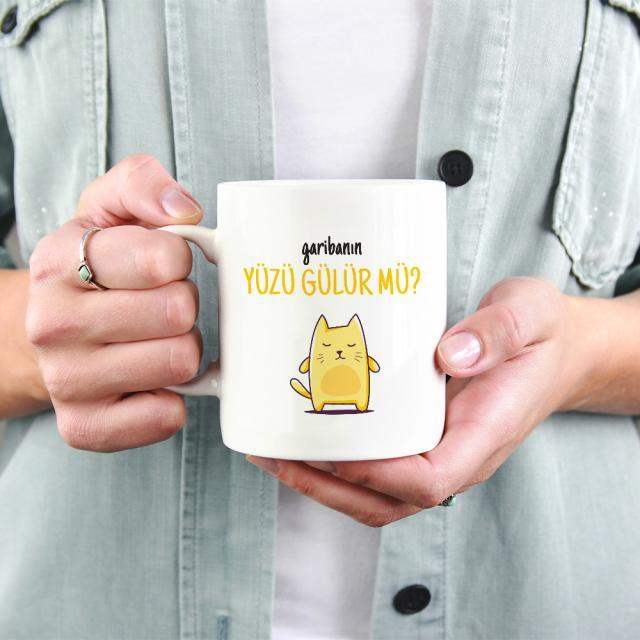Coffee Mug: (148, 178, 452, 462)
